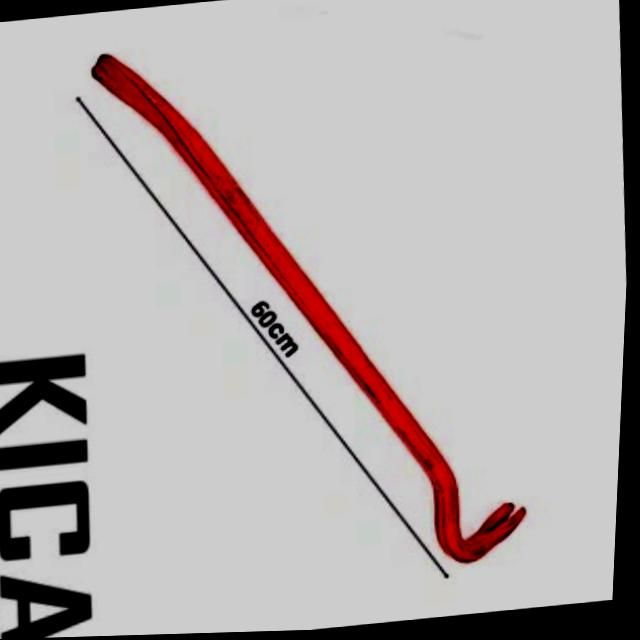crow bar: (95, 51, 536, 572)
